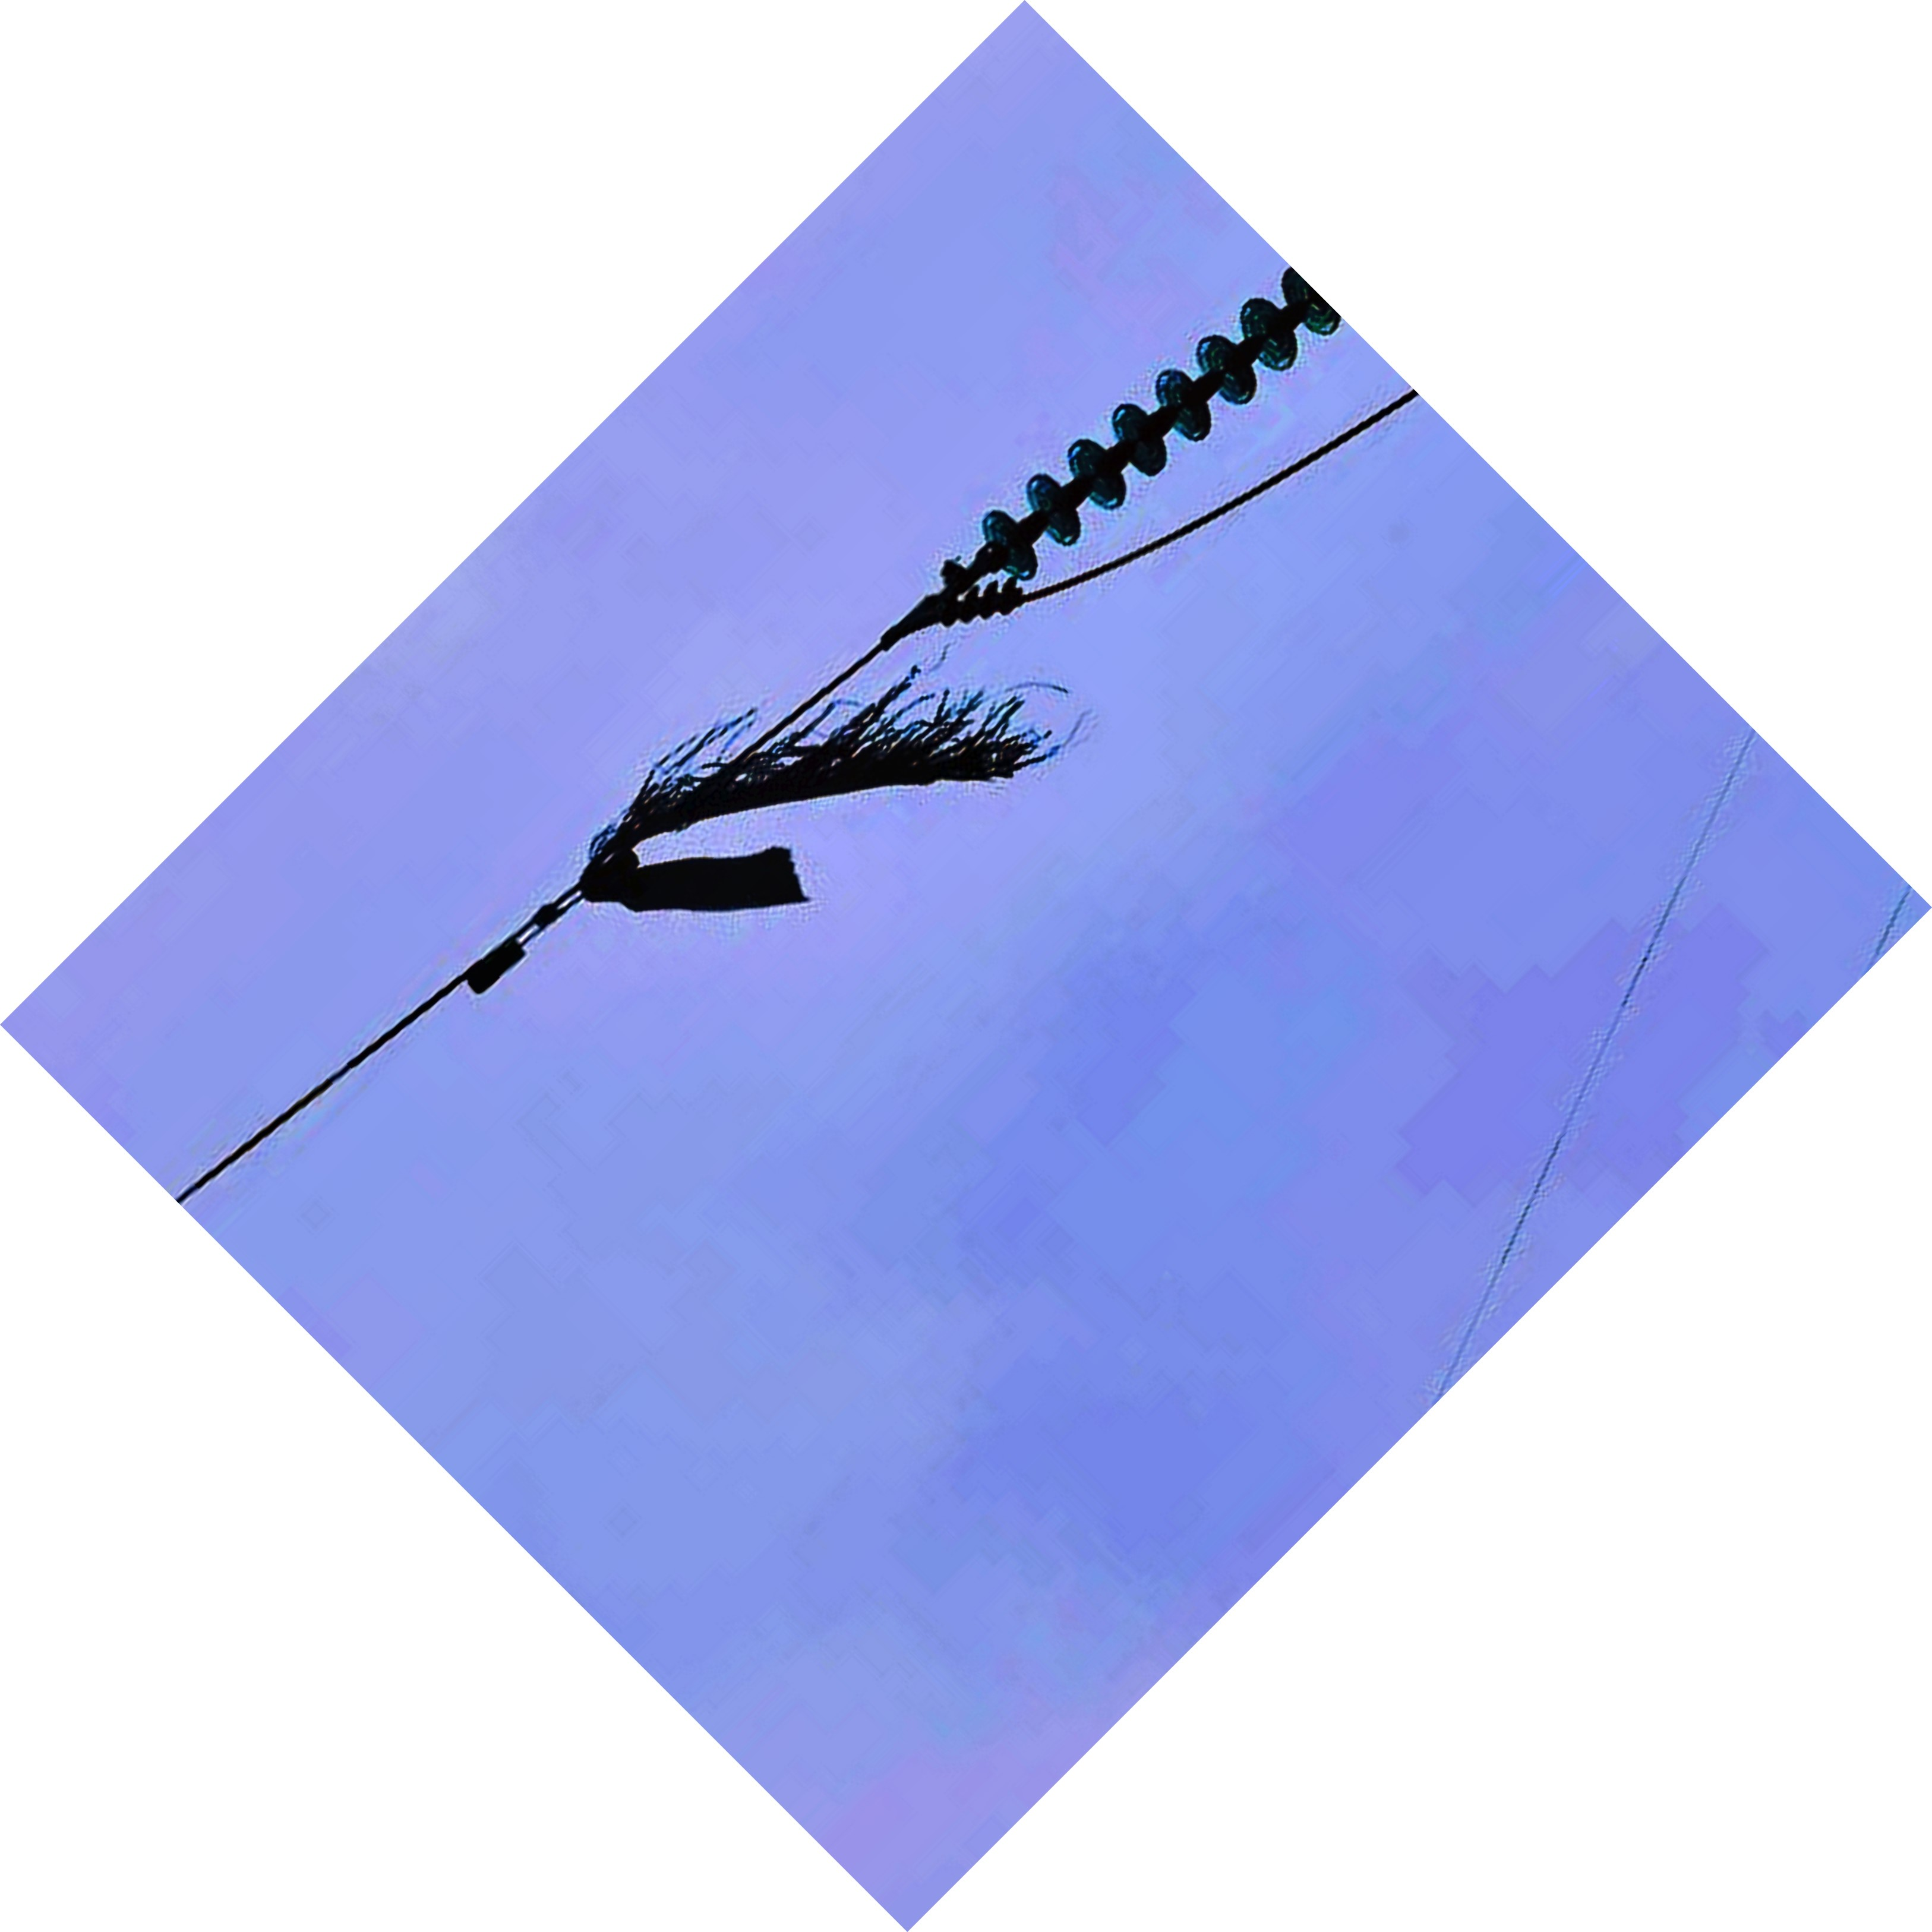wire foreign body: (545, 681, 1046, 922)
